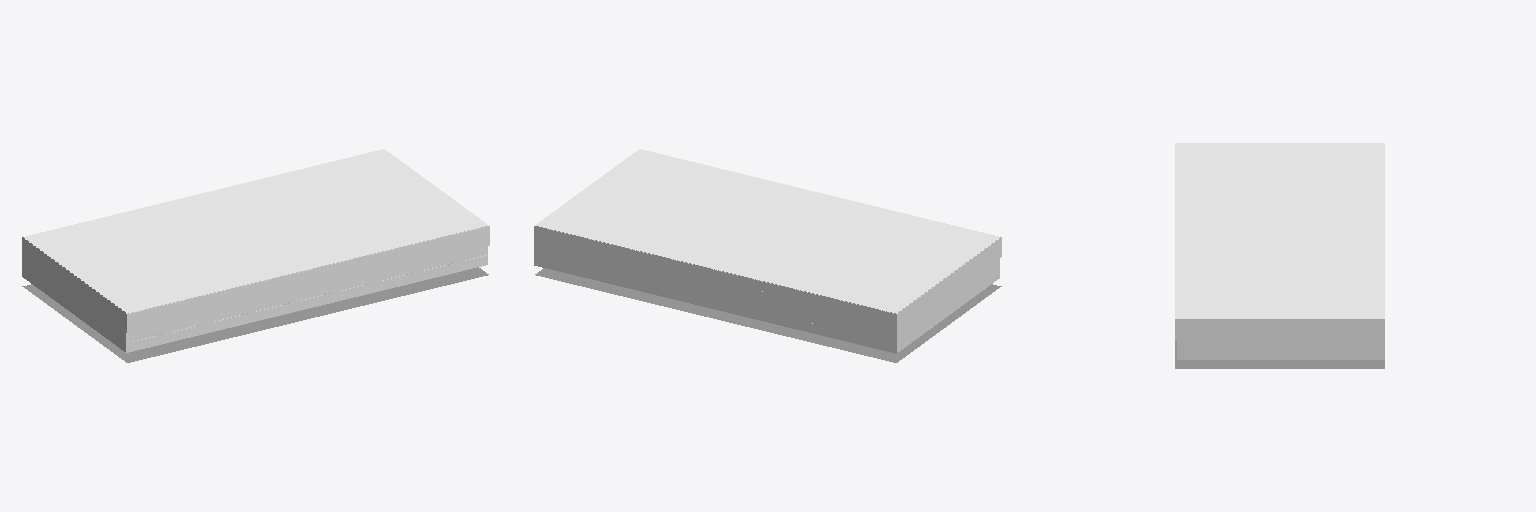
Rendered from houseProject.obj.
The picture shows the model from 3 angles: view 1: azimuth 30°, elevation 25°; view 2: azimuth 150°, elevation 25°; view 3: azimuth 270°, elevation 25°; orthographic projection.
Parts seen in each view (by area): view 1: room_57_316, ground_1, wall_49_293, wall_45_269, wall_37_221, wall_41_245, wall_44_263, wall_48_287, wall_40_239, wall_36_215; view 2: room_57_316, ground_1, wall_43_257, wall_51_305, wall_39_233, wall_47_281, wall_44_263, wall_48_287, wall_40_239, wall_36_215; view 3: room_57_316, wall_46_275, wall_50_299, wall_38_227, wall_42_251, ground_1.
Boxes of the visible parts, box(x1,y1,x2,y2) form: room_57_316: box(23, 149, 488, 313); ground_1: box(22, 263, 488, 362); wall_49_293: box(127, 226, 489, 323); wall_45_269: box(127, 236, 489, 333); wall_37_221: box(126, 255, 487, 352); wall_41_245: box(126, 246, 487, 342); wall_44_263: box(22, 247, 126, 332); wall_48_287: box(22, 237, 126, 322); wall_40_239: box(22, 257, 125, 342); wall_36_215: box(22, 267, 125, 351); room_57_316: box(535, 149, 1000, 313); ground_1: box(535, 268, 1001, 362); wall_43_257: box(534, 246, 896, 343); wall_51_305: box(534, 226, 896, 323); wall_39_233: box(534, 256, 896, 353); wall_47_281: box(534, 236, 896, 333); wall_44_263: box(897, 247, 1001, 332); wall_48_287: box(897, 237, 1001, 322); wall_40_239: box(897, 259, 999, 342); wall_36_215: box(897, 269, 999, 352); room_57_316: box(1175, 143, 1384, 319); wall_46_275: box(1175, 330, 1384, 339); wall_50_299: box(1175, 320, 1384, 329); wall_38_227: box(1177, 350, 1384, 359); wall_42_251: box(1177, 340, 1384, 349); ground_1: box(1175, 340, 1384, 368).
Bounding box in the file's own units: 10028 × 1310 × 5038.